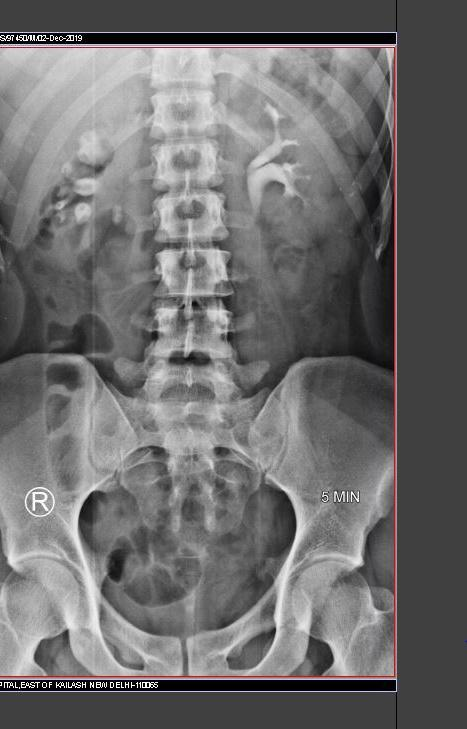left kidney: (231, 70, 357, 257)
vertebrae: (148, 136, 224, 187)
